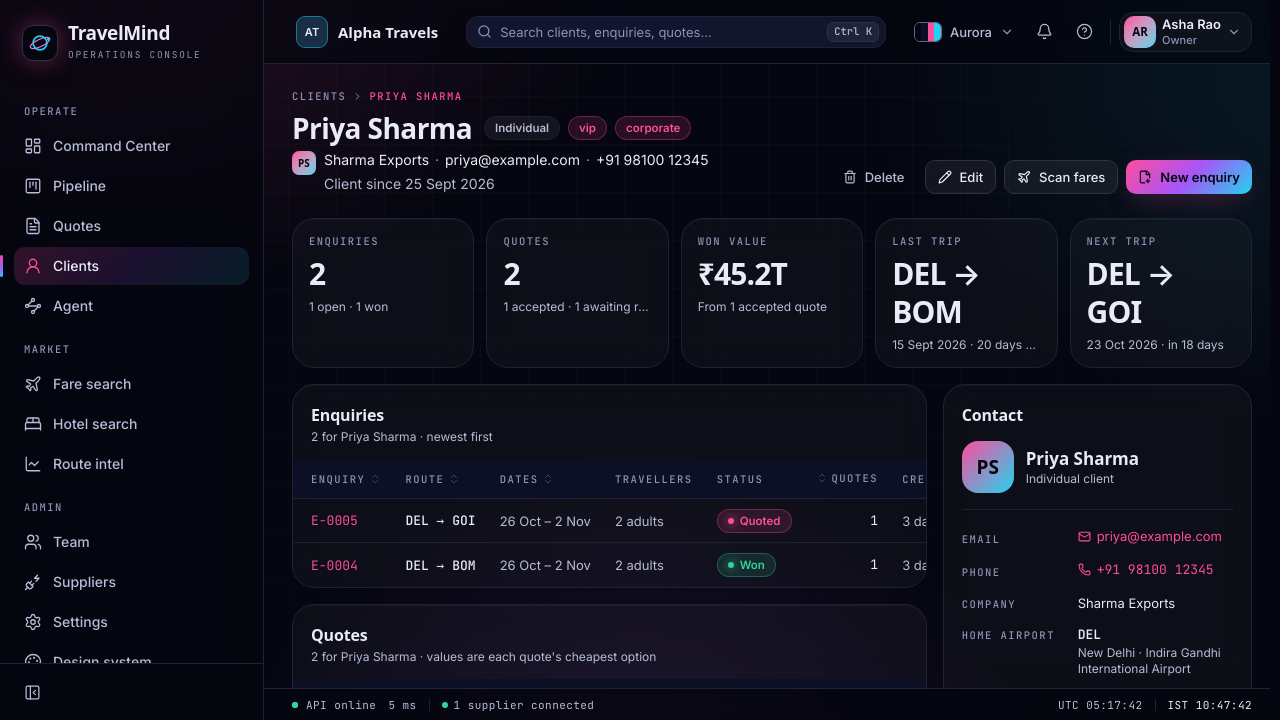
Test case: Delete explains the 409 inline when the client has quotes
Click the button "Delete" at [874, 177], box [831,160,916,194]
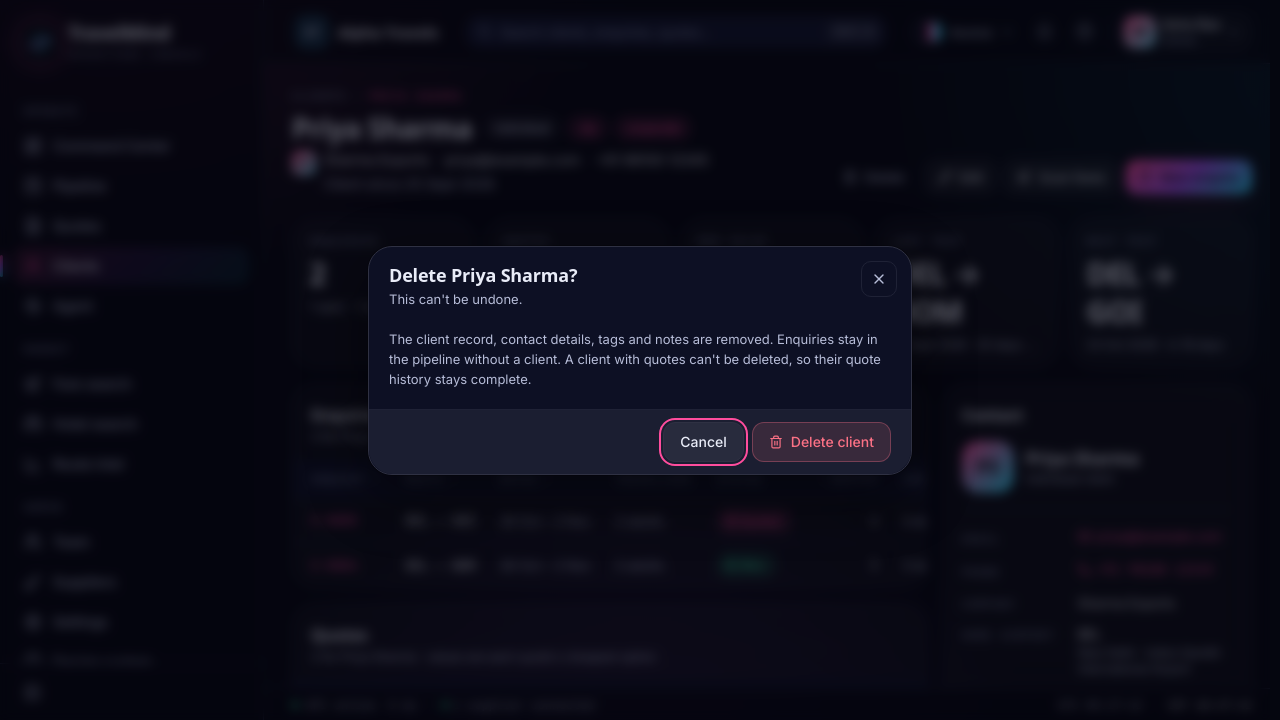
Click the button "Delete client" at [821, 442], box [752,422,891,462]
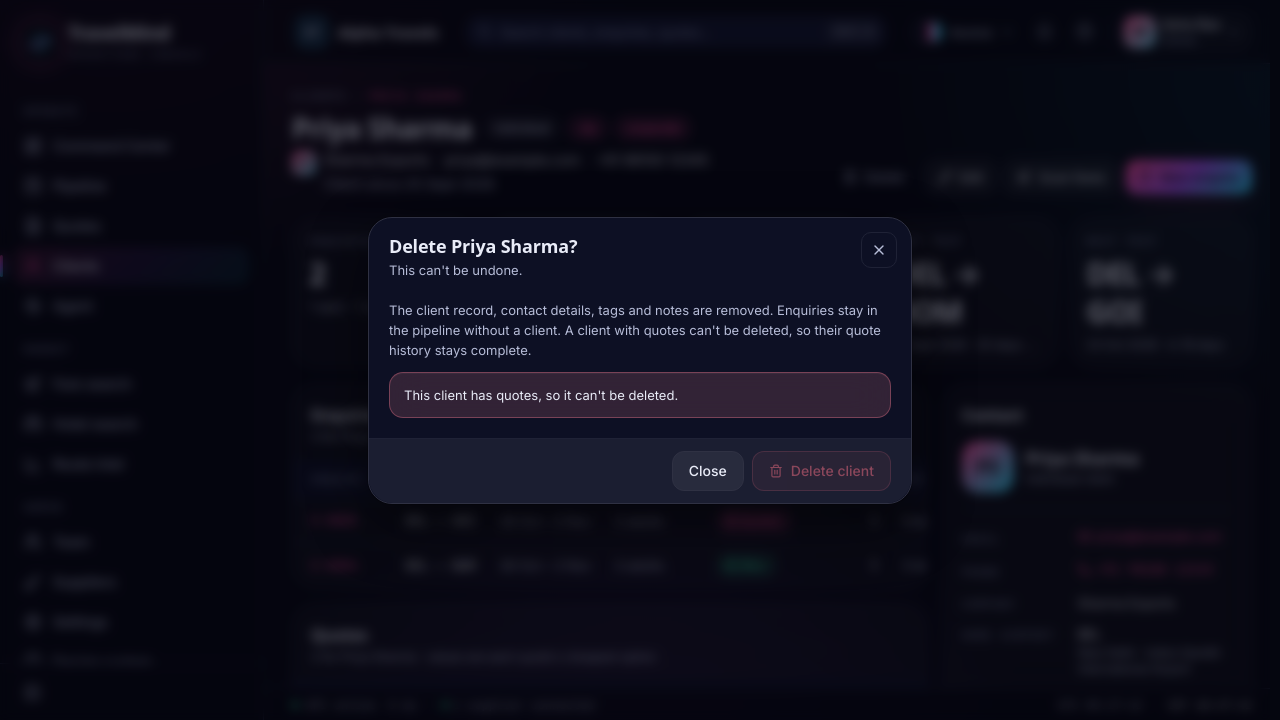
Check: the message reads "This client has quotes, so it can't be deleted.", box [404,386,678,402]
